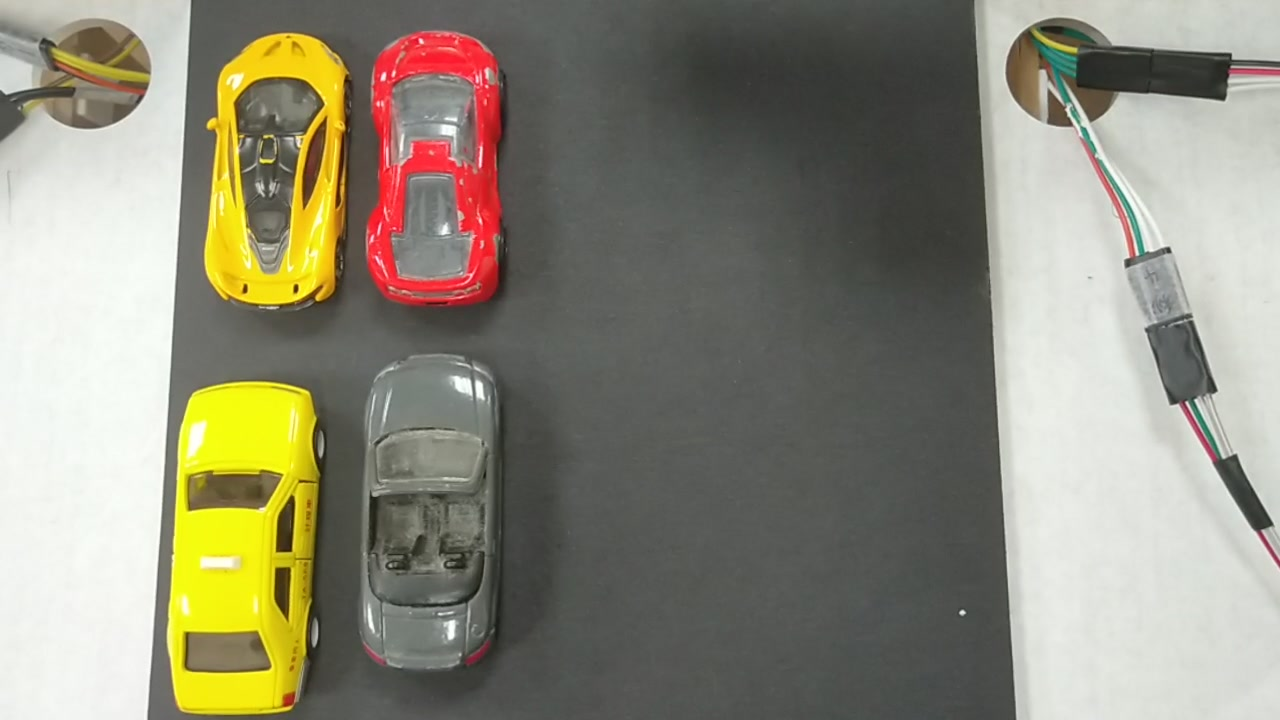car: (166, 384, 324, 717), (368, 350, 499, 671), (208, 28, 345, 303), (371, 31, 504, 308)
